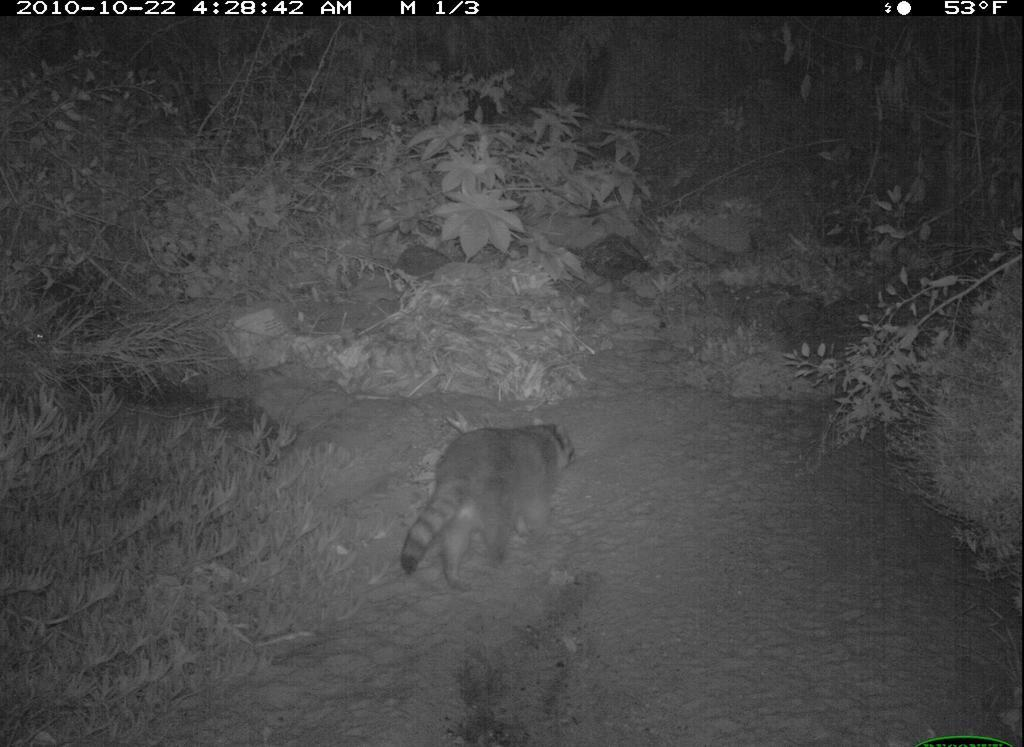raccoon: (395, 410, 596, 594)
